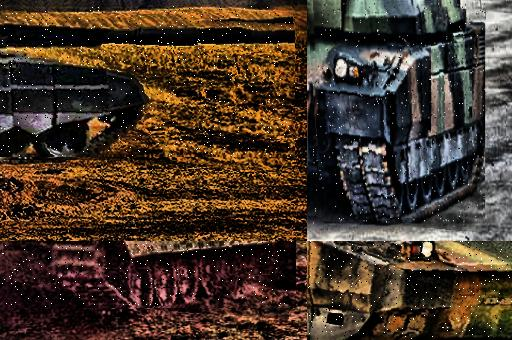tanks: (1, 25, 296, 157), (314, 4, 486, 224), (308, 242, 512, 340), (2, 242, 296, 308), (27, 155, 35, 158)
